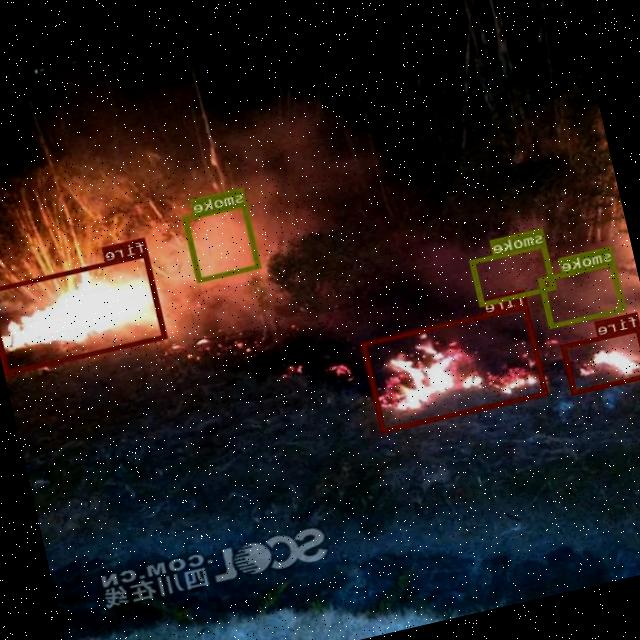fire: (361, 303, 548, 432), (0, 251, 169, 374), (560, 325, 640, 394)
smoke: (182, 202, 262, 280), (540, 260, 626, 326), (470, 242, 557, 306)
